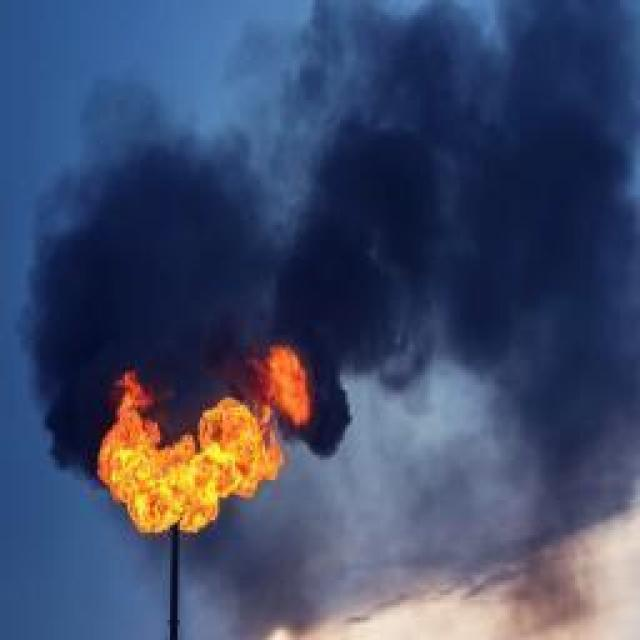fire: (95, 344, 308, 534)
